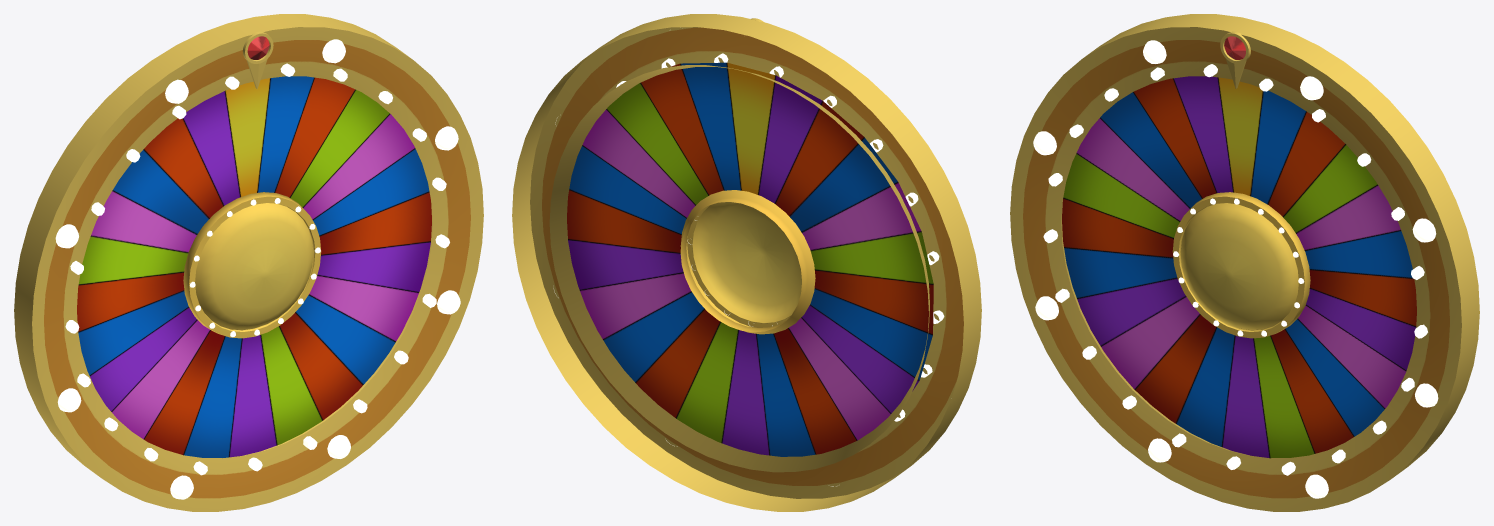
The model's file is FortuneWheel2.glb.
3 views of the same model, side by side, from view 1: azimuth 30°, elevation 25°; view 2: azimuth 150°, elevation 25°; view 3: azimuth 330°, elevation 25° (orthographic).
Visible parts, largest first — view 1: spiningWheel, Wheel_Wheel_MAT_0, Cylinder, OuterLight, WheelStopper, pointer, InnerLight; view 2: spiningWheel, Wheel_Wheel_MAT_0, Cylinder, WheelStopper; view 3: spiningWheel, Wheel_Wheel_MAT_0, Cylinder, OuterLight, WheelStopper, pointer, InnerLight.
Boxes of the visible parts, x1,y1,x2,y2 form: spiningWheel: (77, 76, 431, 457); Wheel_Wheel_MAT_0: (14, 14, 483, 511); Cylinder: (183, 192, 321, 338); OuterLight: (55, 39, 460, 499); WheelStopper: (65, 63, 449, 475); pointer: (242, 31, 273, 89); InnerLight: (189, 198, 320, 337); spiningWheel: (567, 62, 933, 456); Wheel_Wheel_MAT_0: (512, 14, 981, 511); Cylinder: (680, 190, 815, 334); WheelStopper: (616, 53, 944, 421); spiningWheel: (1062, 76, 1416, 458); Wheel_Wheel_MAT_0: (1010, 14, 1479, 511); Cylinder: (1172, 192, 1310, 338); OuterLight: (1033, 40, 1438, 498); WheelStopper: (1043, 64, 1427, 475); pointer: (1220, 31, 1250, 88); InnerLight: (1173, 198, 1304, 336).
Bounding box in the file's own units: 3.71 × 3.72 × 0.3575.
2 materials, 2 textured.
